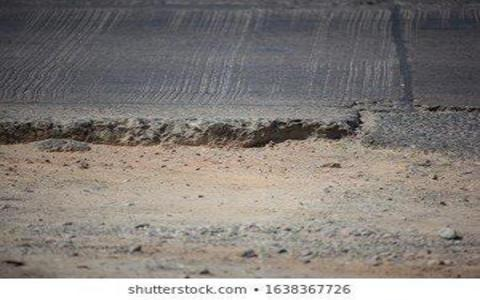patchy roads: (43, 62, 377, 238)
